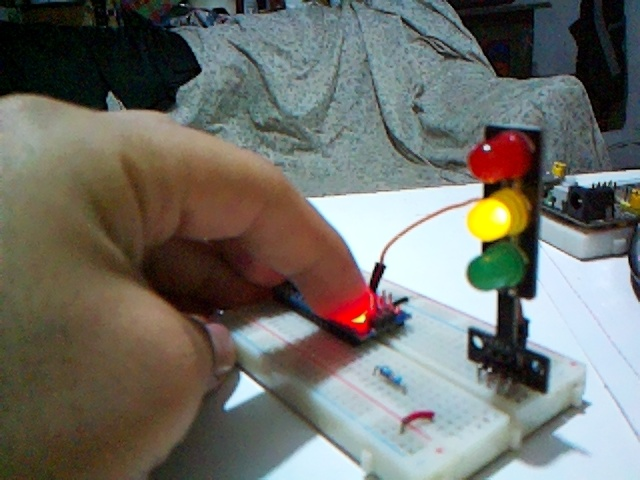traffic_light_yellow: (466, 125, 544, 388)
